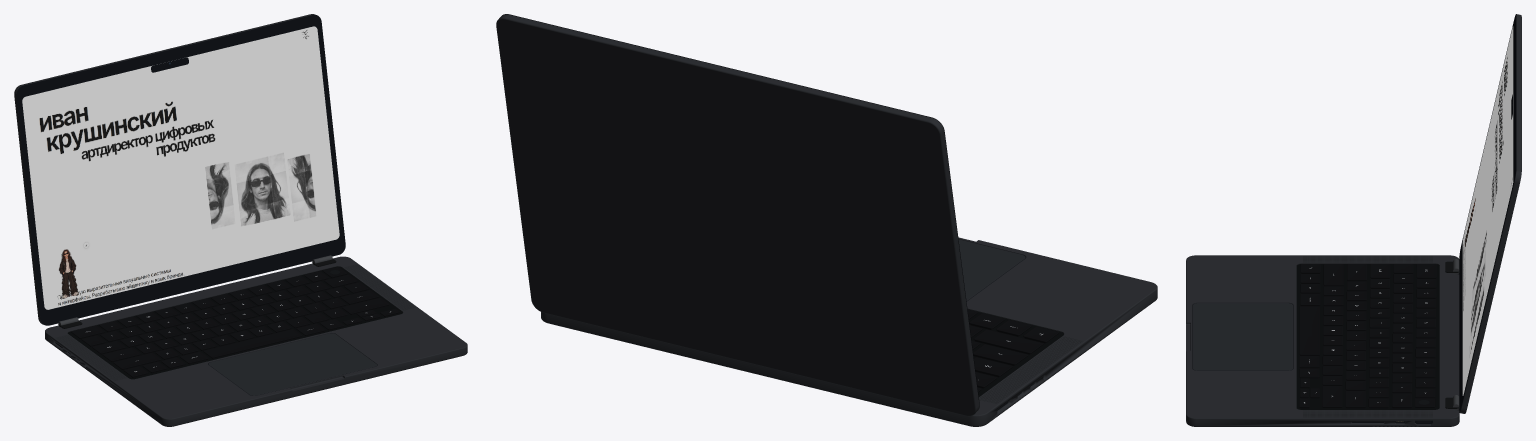
3 views of the same model, side by side, from view 1: azimuth 30°, elevation 25°; view 2: azimuth 150°, elevation 25°; view 3: azimuth 270°, elevation 25° (orthographic). The views are drawn at different scales.
Parts seen in each view (by area): view 1: SCREEN_CONTENT, BASE_UNIBODY, DISPLAY_SURROUND_VISUAL, TRACKPAD, KEYBOARD_WELL, LID_UNIBODY, KEY_00_04; view 2: LID_UNIBODY, BASE_UNIBODY, TRACKPAD, APPLE_LOGO_RELEASE, KEYBOARD_WELL, KEY_01_00, DISPLAY_SURROUND_VISUAL, KEY_02_00; view 3: BASE_UNIBODY, SCREEN_CONTENT, TRACKPAD, KEYBOARD_WELL, LID_UNIBODY, DISPLAY_SURROUND_VISUAL, KEY_00_04, KEY_01_11, KEY_01_00, KEY_02_12, KEY_02_00.
Boxes of the visible parts, x1,y1,x2,y2 form: SCREEN_CONTENT: [22, 26, 339, 309]; BASE_UNIBODY: [45, 256, 467, 426]; DISPLAY_SURROUND_VISUAL: [16, 14, 345, 325]; TRACKPAD: [208, 333, 376, 395]; KEYBOARD_WELL: [67, 266, 402, 379]; LID_UNIBODY: [14, 14, 314, 324]; KEY_00_04: [203, 329, 301, 358]; LID_UNIBODY: [496, 14, 979, 416]; BASE_UNIBODY: [541, 237, 1157, 426]; TRACKPAD: [958, 239, 1025, 300]; APPLE_LOGO_RELEASE: [709, 184, 762, 250]; KEYBOARD_WELL: [968, 309, 1063, 396]; KEY_01_00: [973, 329, 1043, 353]; DISPLAY_SURROUND_VISUAL: [502, 14, 979, 408]; KEY_02_00: [973, 344, 1027, 364]; BASE_UNIBODY: [1186, 255, 1459, 426]; SCREEN_CONTENT: [1462, 26, 1513, 395]; TRACKPAD: [1193, 303, 1292, 370]; KEYBOARD_WELL: [1296, 264, 1439, 409]; LID_UNIBODY: [1460, 14, 1521, 413]; DISPLAY_SURROUND_VISUAL: [1459, 14, 1516, 412]; KEY_00_04: [1299, 306, 1319, 355]; KEY_01_11: [1322, 386, 1342, 407]; KEY_01_00: [1323, 264, 1343, 285]; KEY_02_12: [1345, 391, 1365, 407]; KEY_02_00: [1347, 264, 1366, 280].
Bounding box in the file's own units: 0.3126 × 0.2272 × 0.2716.
16 materials, 3 textured.
